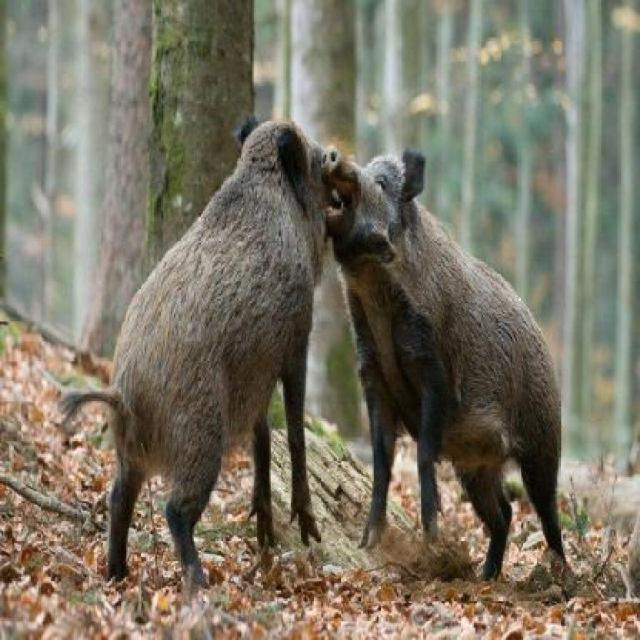wildboar: (42, 110, 348, 616), (303, 133, 588, 612)
